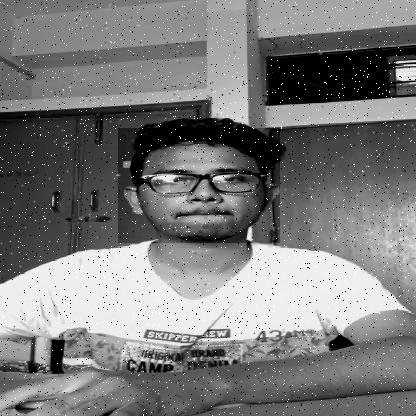Normal: (118, 128, 280, 243)
